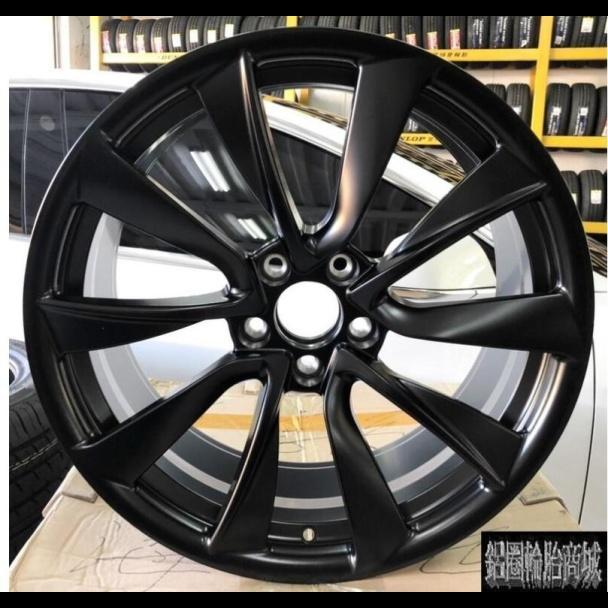hole: (238, 313, 272, 348), (347, 312, 380, 346), (260, 251, 290, 285), (325, 252, 356, 283), (293, 352, 325, 382)
